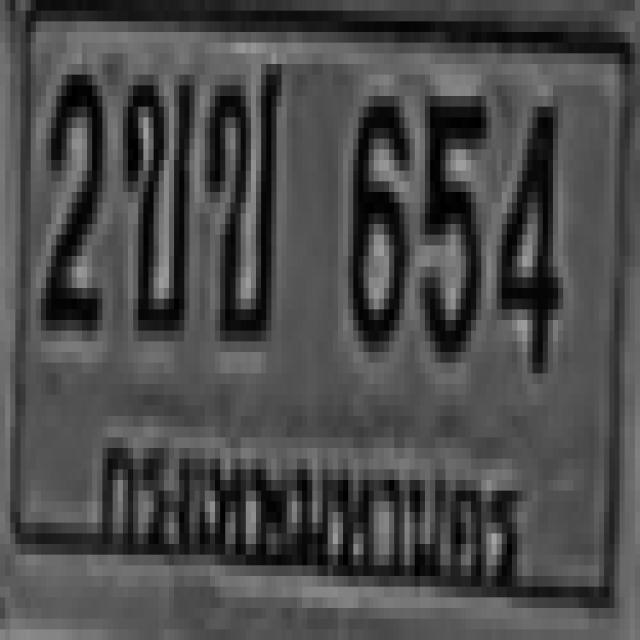11KhorKhai: (121, 67, 192, 334)
19ChorChang: (202, 53, 283, 349)
2: (39, 67, 101, 323)
4: (497, 101, 559, 368)
5: (422, 90, 483, 356)
6: (352, 90, 408, 347)
Bangkok: (78, 416, 540, 634)
